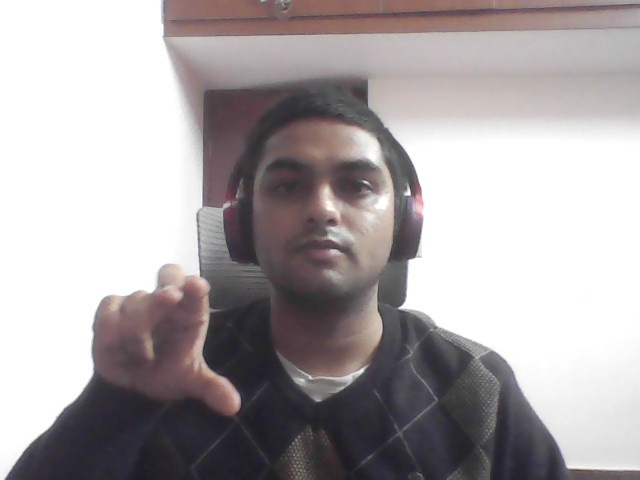No: (64, 234, 250, 435)
